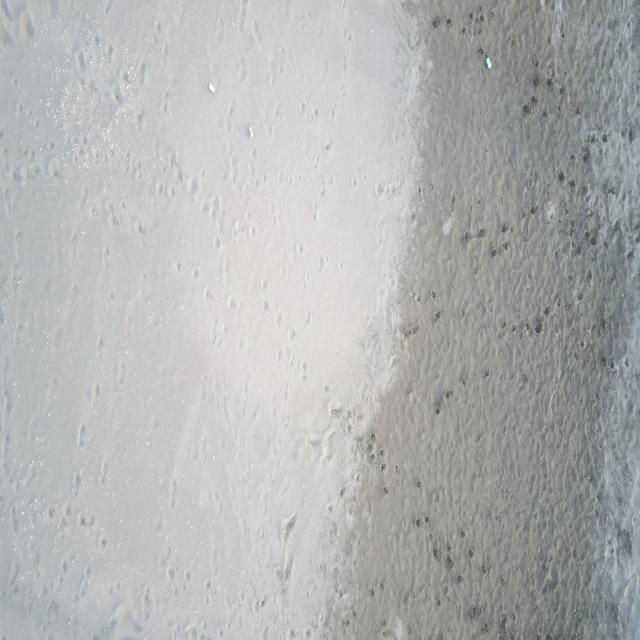tin-and-aluminum-cans: (484, 55, 493, 70), (208, 83, 216, 95), (246, 127, 252, 140)
